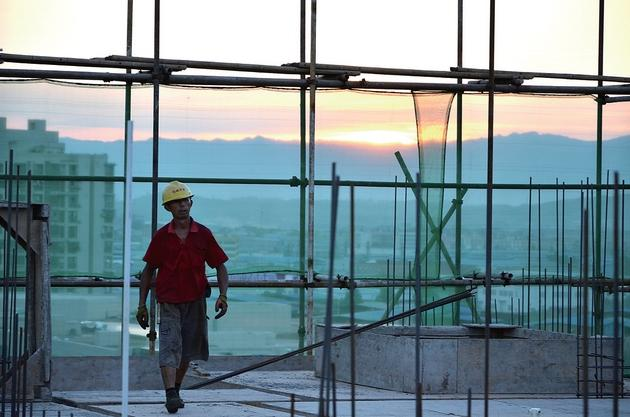helmet: (162, 182, 195, 204)
